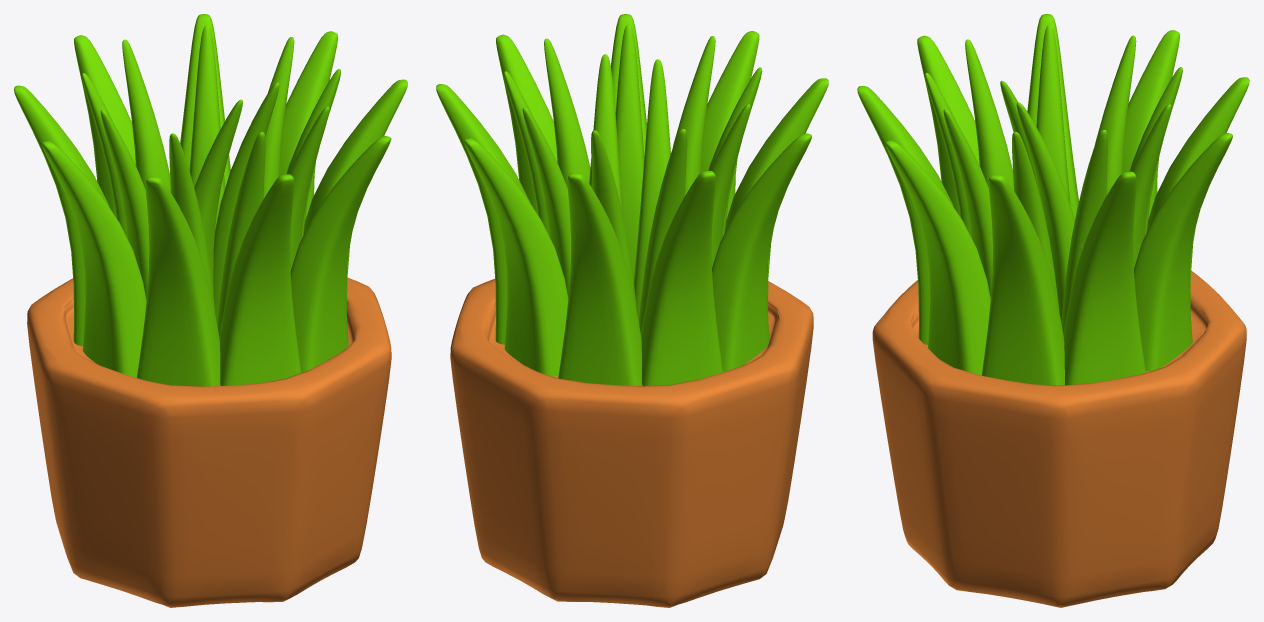
3 renders of one model, left to right at view 1: azimuth 30°, elevation 25°; view 2: azimuth 150°, elevation 25°; view 3: azimuth 270°, elevation 25°, orthographic.
Visible parts, largest first — view 1: Cylinder.004_Material.020_0, Cylinder.004_Material.019_0; view 2: Cylinder.004_Material.020_0, Cylinder.004_Material.019_0; view 3: Cylinder.004_Material.020_0, Cylinder.004_Material.019_0.
Boxes of the visible parts, box(x1,y1,x2,y2) form: Cylinder.004_Material.020_0: box(14, 14, 407, 386); Cylinder.004_Material.019_0: box(27, 278, 391, 607); Cylinder.004_Material.020_0: box(436, 14, 828, 386); Cylinder.004_Material.019_0: box(450, 278, 813, 607); Cylinder.004_Material.020_0: box(857, 14, 1249, 385); Cylinder.004_Material.019_0: box(872, 271, 1246, 607).
Bounding box in the file's own units: 0.2775 × 0.3694 × 0.2794.
